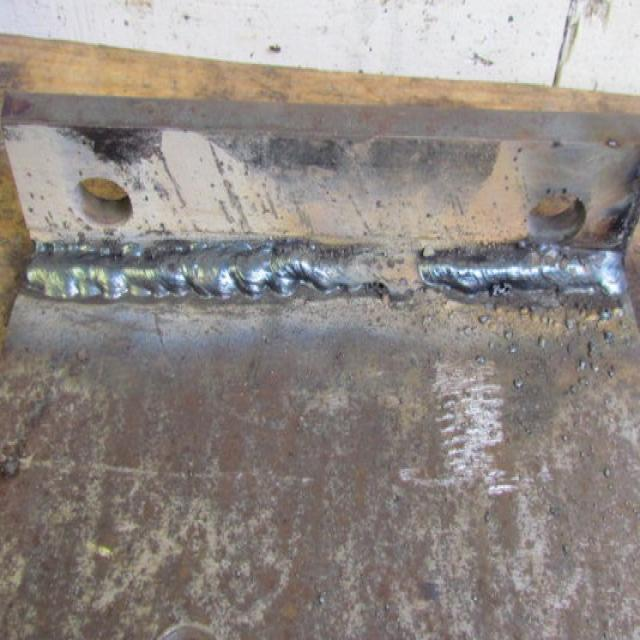Bad Welding: (13, 231, 630, 328)
